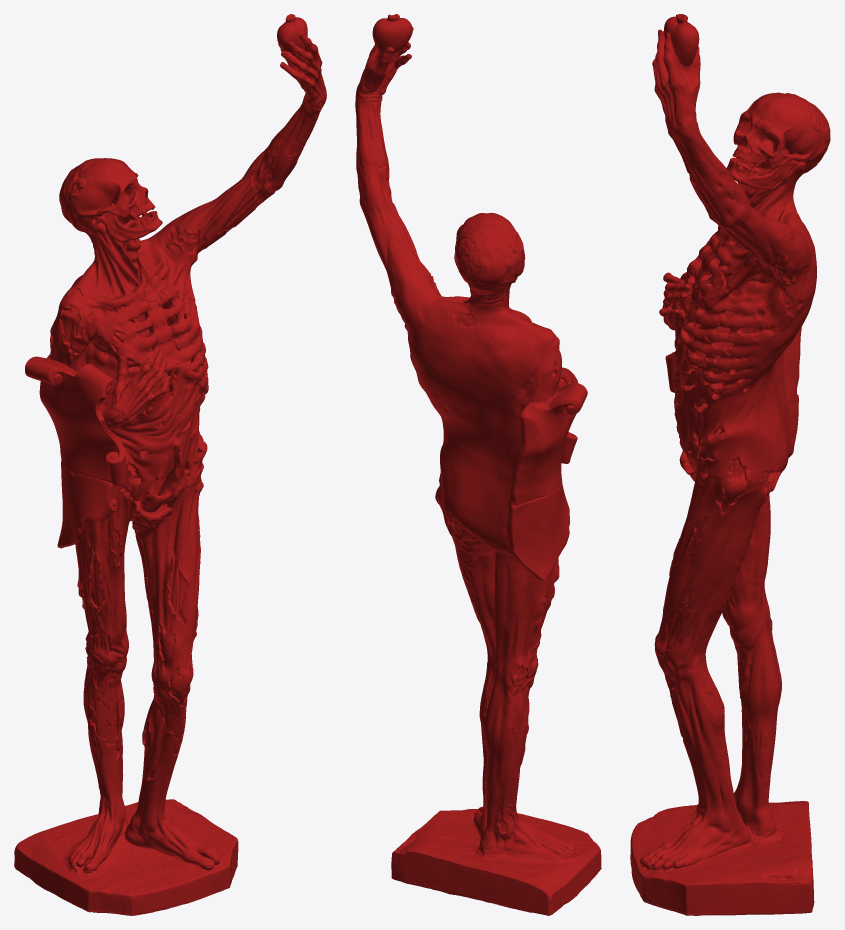
File: mark.glb
The picture shows the model from 3 angles, left to right: view 1: azimuth 30°, elevation 25°; view 2: azimuth 150°, elevation 25°; view 3: azimuth 270°, elevation 25°; orthographic projection. The views are drawn at different scales.
Visible parts, largest first — view 1: Le_Transi_De_Rene_De_Chalon001; view 2: Le_Transi_De_Rene_De_Chalon001; view 3: Le_Transi_De_Rene_De_Chalon001.
Boxes of the visible parts, left/top/right/bottom form: Le_Transi_De_Rene_De_Chalon001: left=14, top=14, right=326, bottom=915; Le_Transi_De_Rene_De_Chalon001: left=355, top=14, right=601, bottom=915; Le_Transi_De_Rene_De_Chalon001: left=630, top=14, right=830, bottom=915.
Size of the model in its own units: 1.24 by 3.73 by 0.7282.
